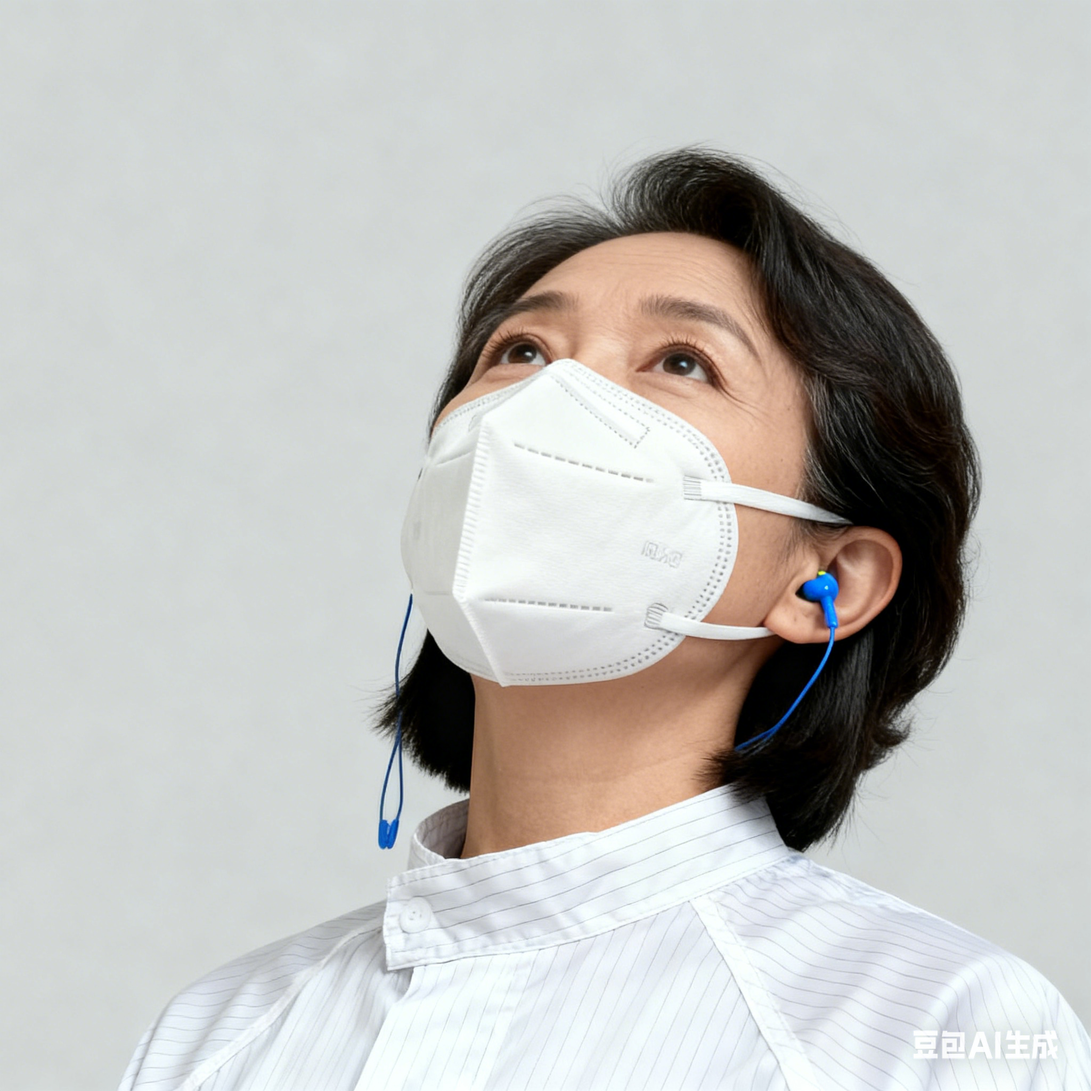MASK: (402, 358, 740, 692)
